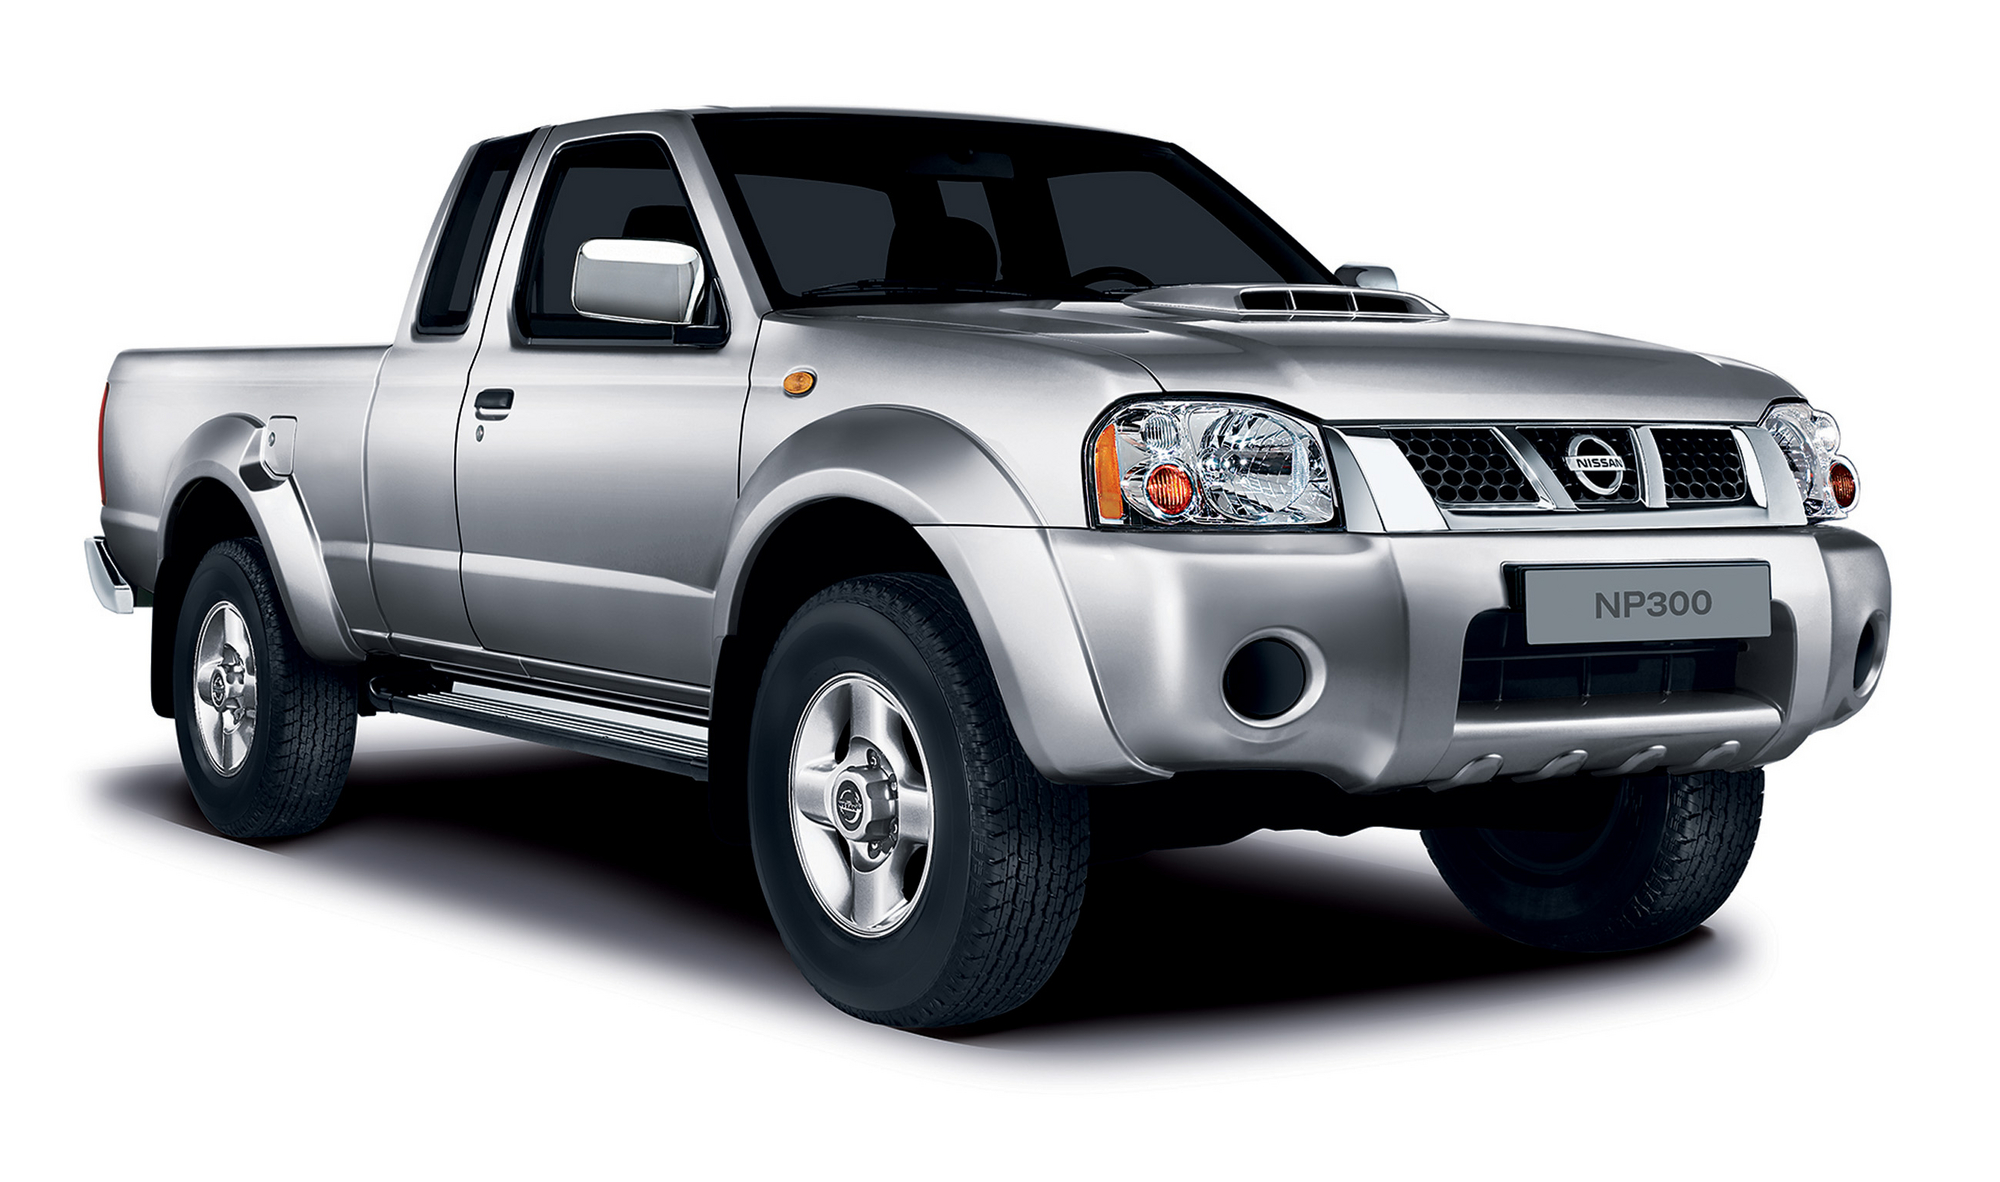pickup: (75, 99, 1904, 1048)
